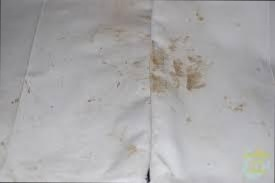earth: (149, 47, 206, 91)
